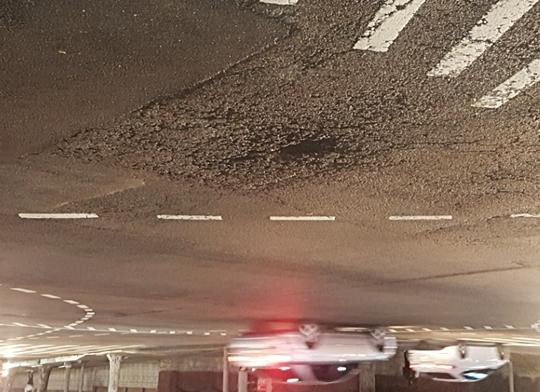pothole: (259, 118, 356, 177)
